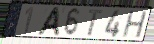1: (23, 6, 35, 34)
4: (104, 9, 121, 38)
6: (63, 7, 82, 37)
A: (35, 6, 61, 37)
H: (121, 10, 148, 40)
T: (87, 9, 105, 37)
